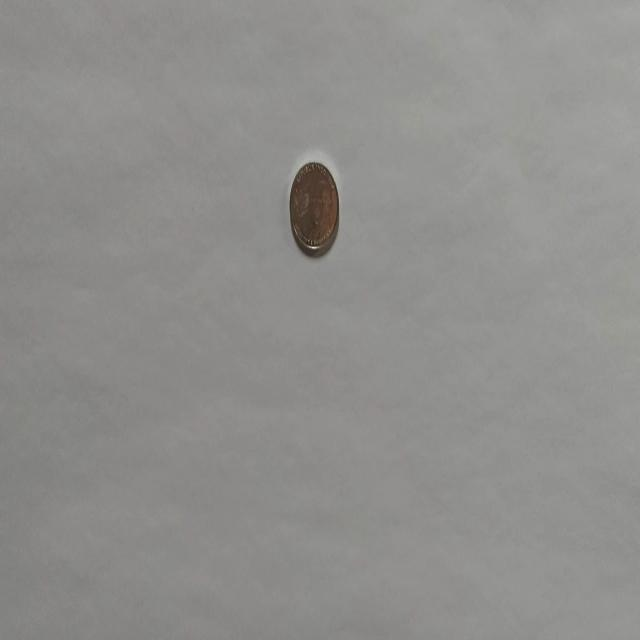lima ratus rupiah: (288, 159, 340, 257)
